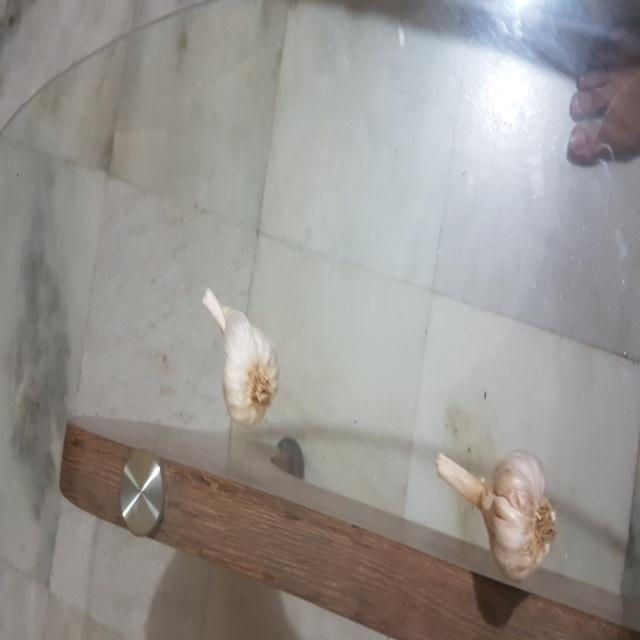garlic: (428, 446, 568, 581), (200, 289, 287, 426)
